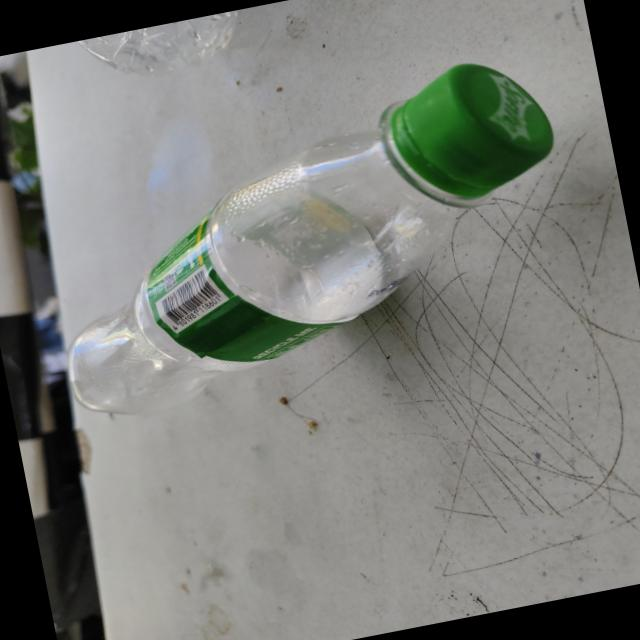Bottle: (68, 64, 553, 415)
